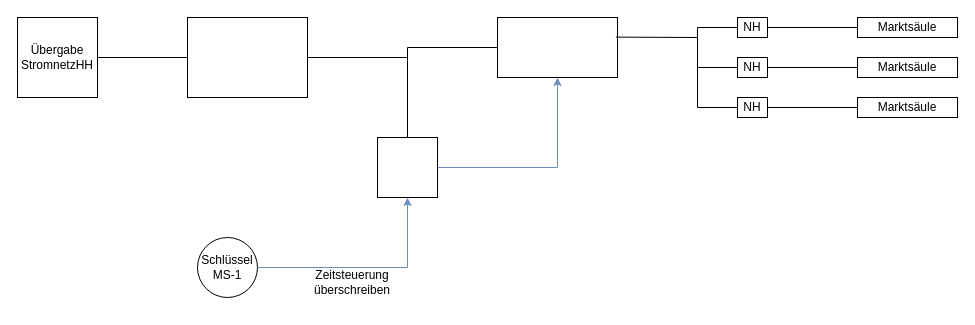
This 975x325 diagram has some shape labels left out. The box of each missing label's shape, as (x1, y1, x2, y2) in pixels:
Leistungsschalter: (496, 16, 618, 78)
Siemens Logo: (376, 136, 438, 198)
Wandlerzählung: (186, 16, 308, 98)
